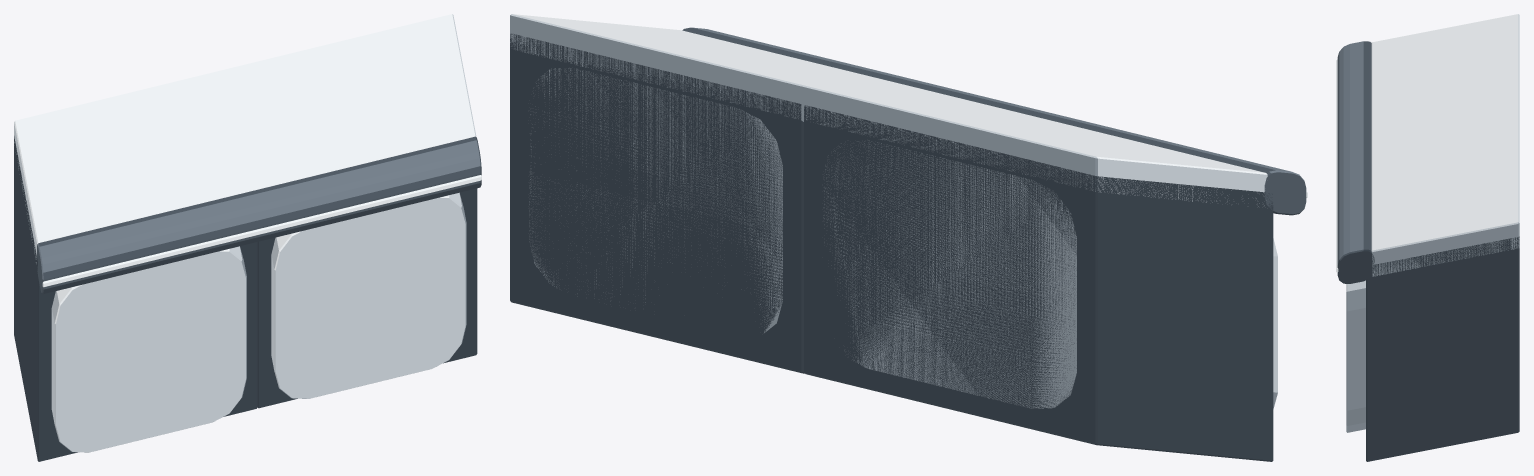
Rendered from Terrain_TopRun2.gltf.
3 renders of one model, left to right at view 1: azimuth 30°, elevation 25°; view 2: azimuth 150°, elevation 25°; view 3: azimuth 270°, elevation 25°, orthographic. The views are drawn at different scales.
Parts seen in each view (by area): view 1: Terrain_TopRun2_baked; view 2: Terrain_TopRun2_baked; view 3: Terrain_TopRun2_baked.
Boxes of the visible parts, box(x1,y1,x2,y2) form: Terrain_TopRun2_baked: box(14, 14, 481, 461); Terrain_TopRun2_baked: box(510, 14, 1307, 461); Terrain_TopRun2_baked: box(1336, 14, 1519, 461).
Size of the model in its own units: 2.29 by 1.18 by 0.74.
